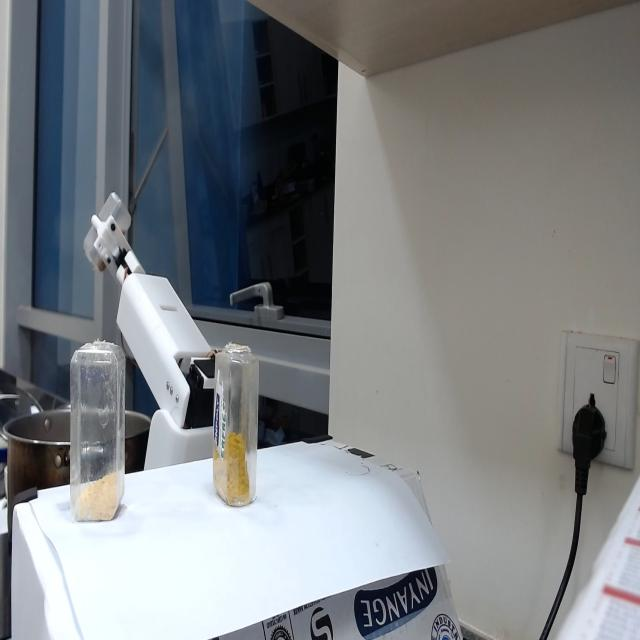cooking_pot: (4, 407, 71, 542)
curry_powder: (212, 432, 251, 508)
garlic_powder: (75, 470, 125, 520)
maggie_open: (84, 240, 108, 286)
